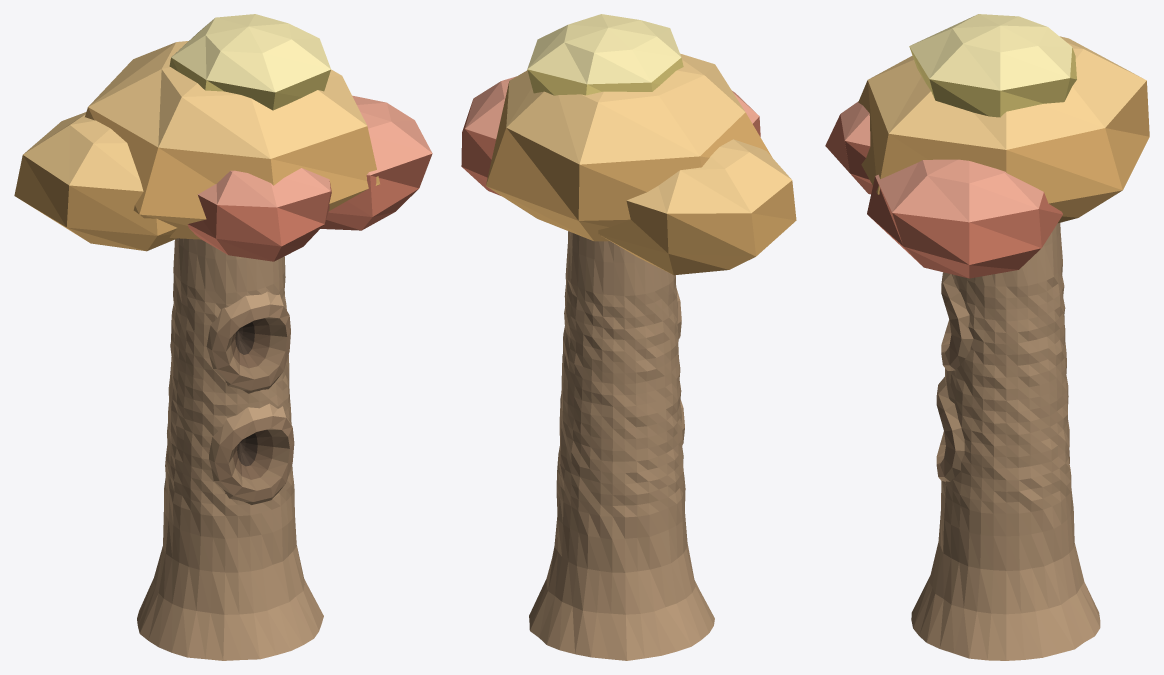
File: hollow_tree.glb
The picture shows the model from 3 angles, left to right: view 1: azimuth 30°, elevation 25°; view 2: azimuth 150°, elevation 25°; view 3: azimuth 270°, elevation 25°; orthographic projection. The views are drawn at different scales.
Visible parts, largest first — view 1: HollowTree_Canopy, HollowTree_Trunk; view 2: HollowTree_Canopy, HollowTree_Trunk; view 3: HollowTree_Canopy, HollowTree_Trunk.
Part boxes in pixels (left/top/right/bottom): HollowTree_Canopy: left=14, top=14, right=432, bottom=261; HollowTree_Trunk: left=137, top=238, right=323, bottom=660; HollowTree_Canopy: left=461, top=14, right=796, bottom=275; HollowTree_Trunk: left=529, top=231, right=714, bottom=660; HollowTree_Canopy: left=825, top=14, right=1149, bottom=278; HollowTree_Trunk: left=911, top=223, right=1100, bottom=660.
Size of the model in its own units: 6.75 by 10.8 by 5.27.
